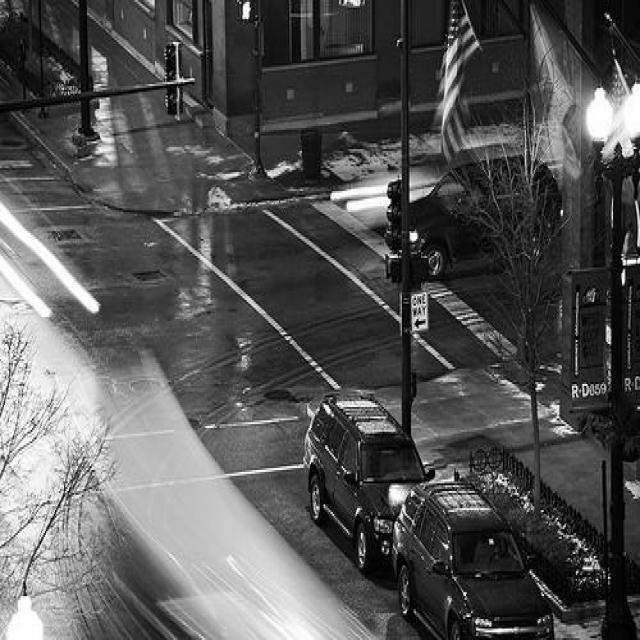vehicle: (396, 480, 554, 634), (303, 393, 433, 579), (410, 155, 564, 283)
